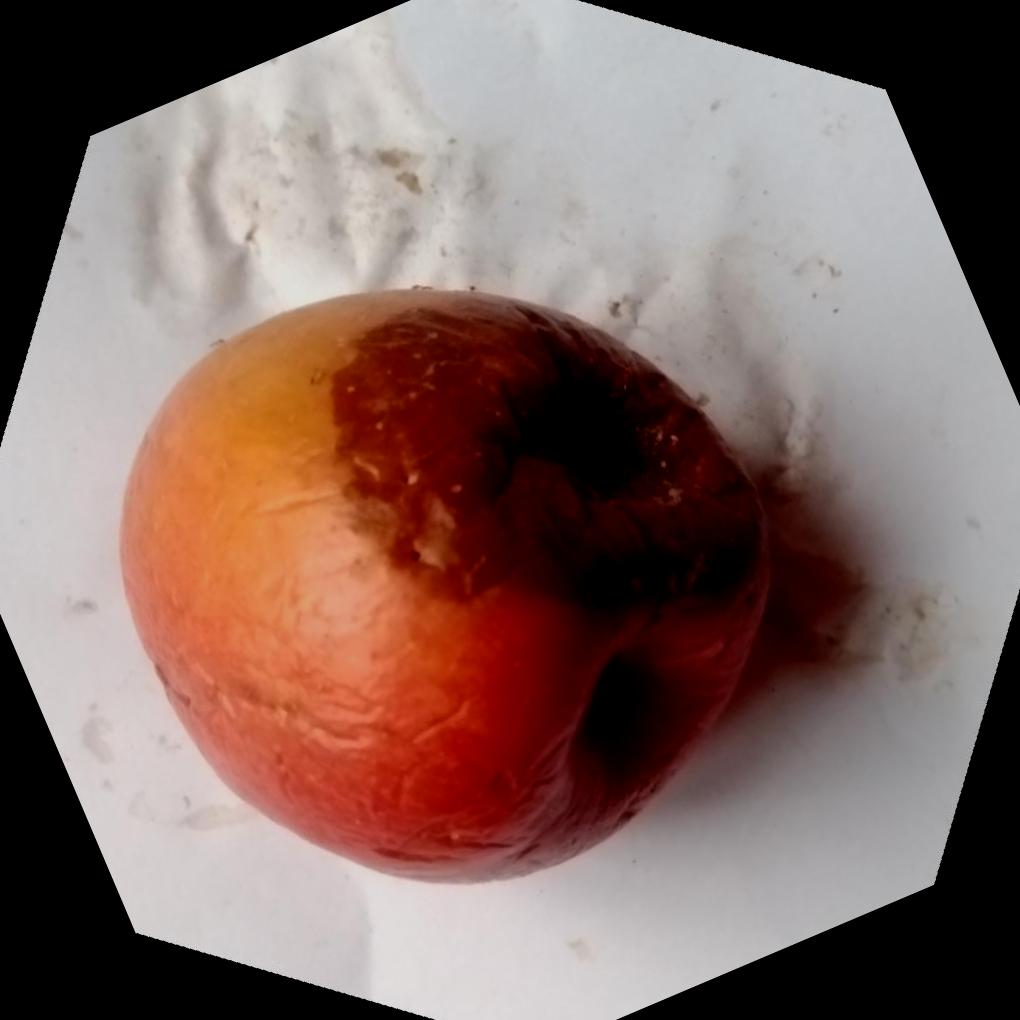FreshOrange: (118, 281, 779, 883)
